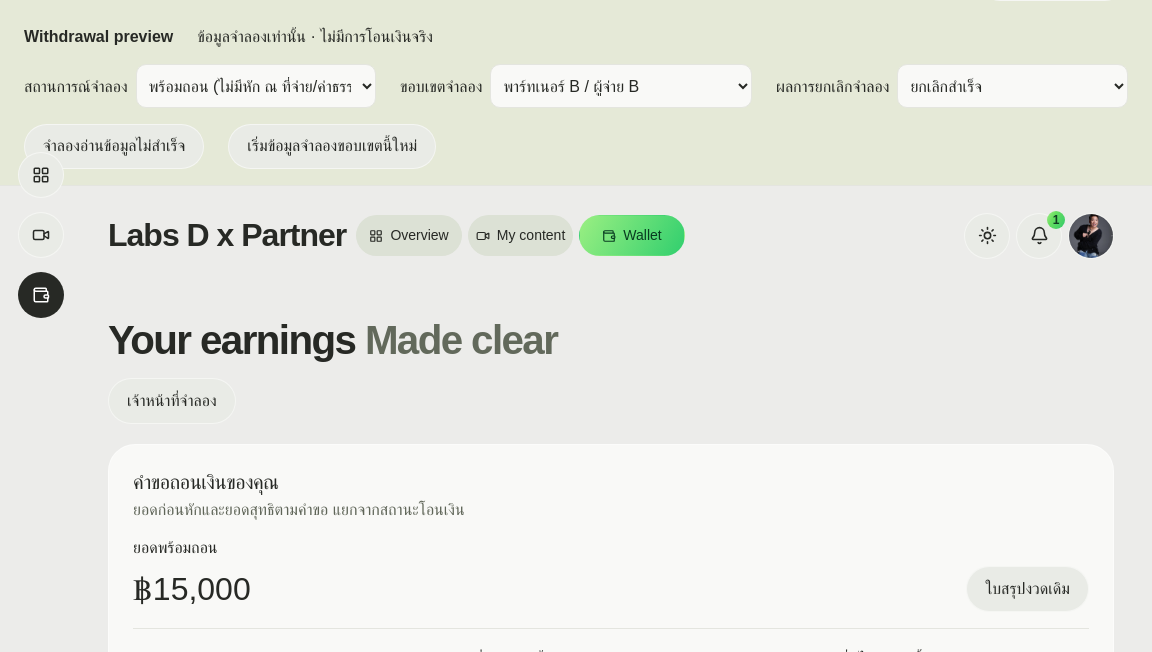
Scenario: WU02 actual-runtime preview composition › can reset only the selected synthetic scope and leaves the other identity intact
Step 1. Click the button "เริ่มข้อมูลจำลองขอบเขตนี้ใหม่" → click(332, 146), box 228,124 -> 436,169
(page scrolled)
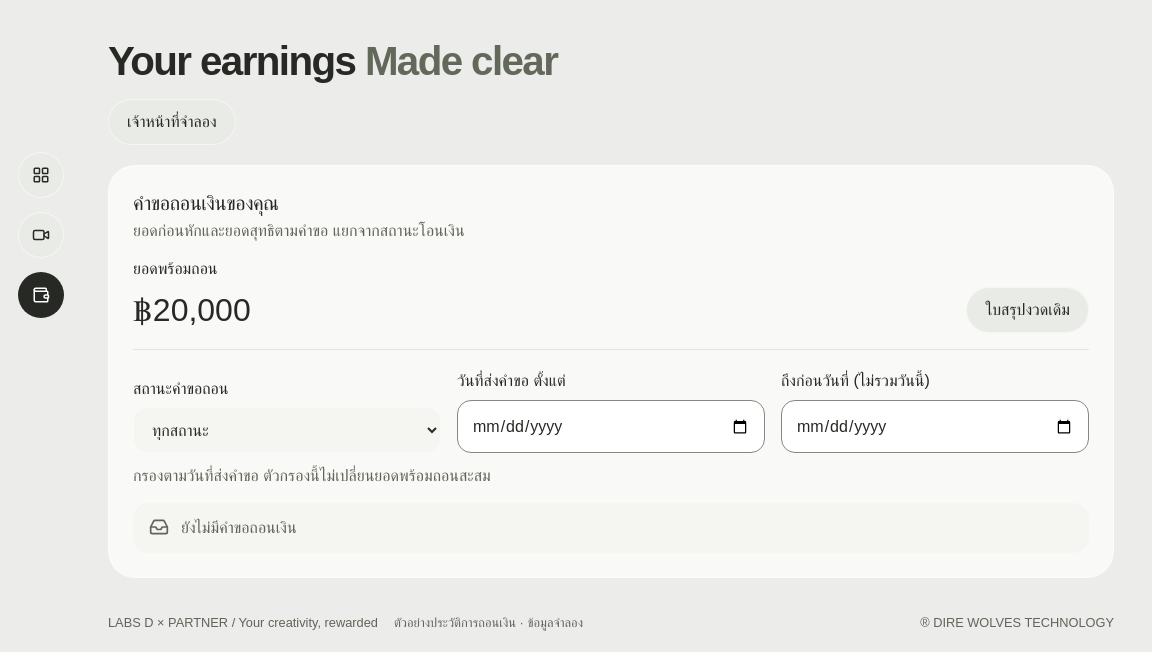
Expected: the text "ยังไม่มีคำขอถอนเงิน" is shown, 181,519 -> 297,536
